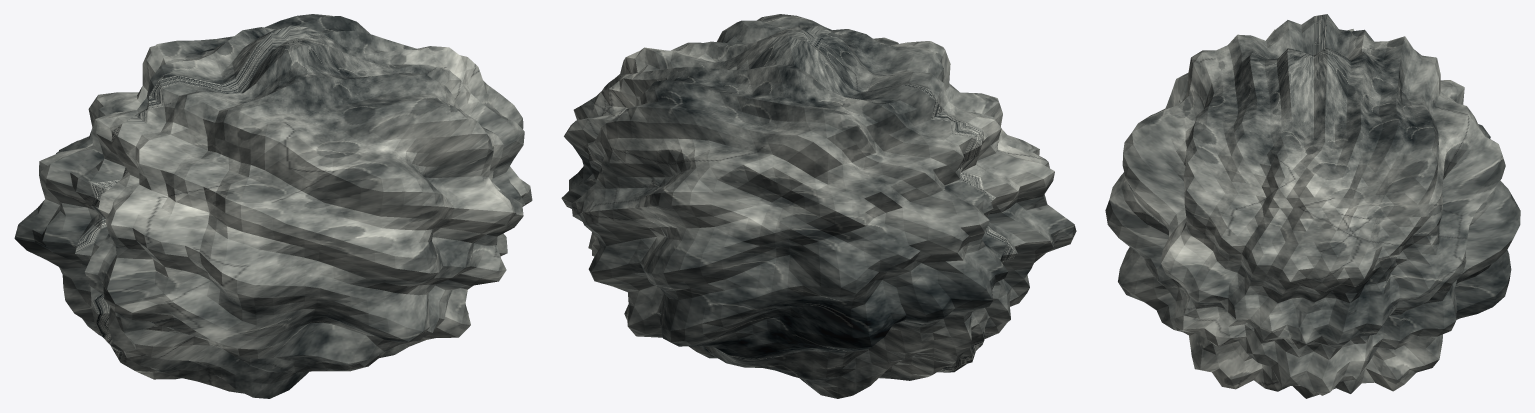
File: feist_gray_asteroid.glb
The picture shows the model from 3 angles, left to right: view 1: azimuth 30°, elevation 25°; view 2: azimuth 150°, elevation 25°; view 3: azimuth 270°, elevation 25°; orthographic projection. The views are drawn at different scales.
Parts seen in each view (by area): view 1: camouflage_1; view 2: camouflage_1; view 3: camouflage_1.
Part boxes in pixels (left/top/right/bottom): camouflage_1: left=14, top=14, right=532, bottom=398; camouflage_1: left=561, top=14, right=1076, bottom=398; camouflage_1: left=1105, top=14, right=1520, bottom=398.
Bounding box in the file's own units: 3.11 × 2.14 × 2.59.
Materials: 1 (1 with a texture image).
